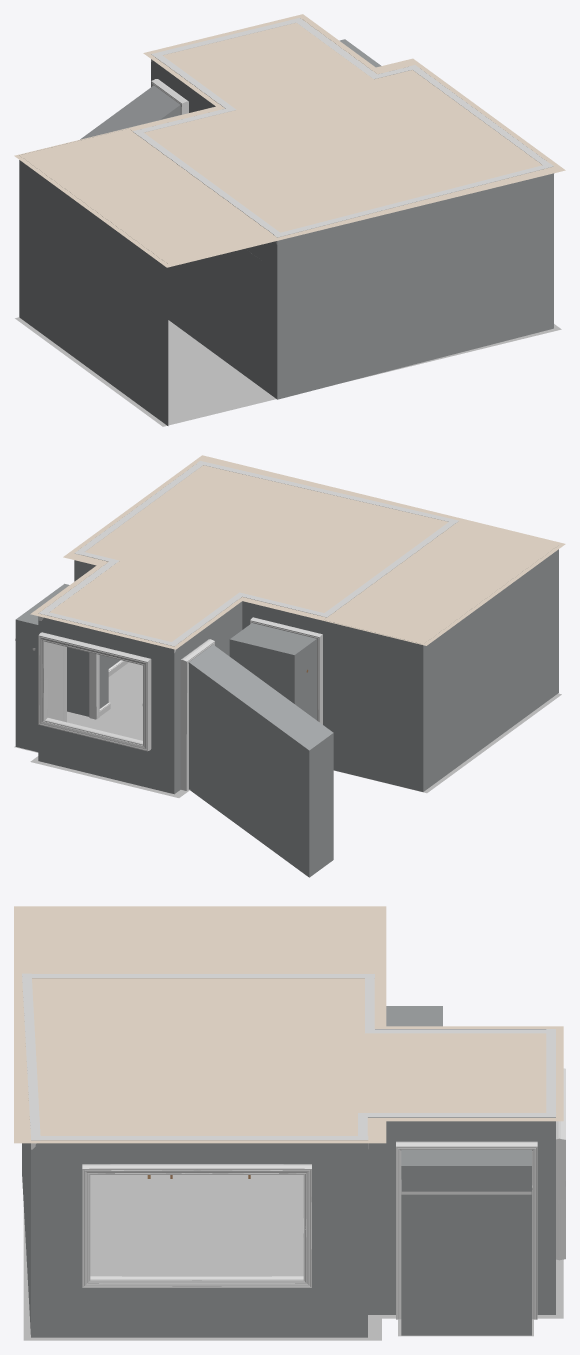
File: room.fbx
The picture shows the model from 3 angles, top to bottom: view 1: azimuth 30°, elevation 25°; view 2: azimuth 150°, elevation 25°; view 3: azimuth 270°, elevation 25°; orthographic projection. The views are drawn at different scales.
Visible parts, largest first — view 1: Walls, Ceiling, Floor, ceiling lining 2, ceiling lining 1, ceiling lining 3, ceiling lining 4, ceiling lining 5, ceiling lining 6; view 2: Walls, Ceiling, Floor, window lining 1, closet door 2, door lining 3, ceiling lining 2, door lining 2, ceiling lining 1, ceiling lining 3, door lining 4, ceiling lining 4 (+1 smaller); view 3: Ceiling, Walls, Floor, window lining 2, door lining 4, ceiling lining 2, ceiling lining 1, ceiling lining 3, window lining 1, ceiling lining 4, ceiling lining 6, ceiling lining 5 (+1 smaller).
Part boxes in pixels (left/top/right/bottom): Walls: left=19, top=39, right=553, bottom=425; Ceiling: left=14, top=14, right=565, bottom=267; Floor: left=15, top=317, right=561, bottom=426; ceiling lining 2: left=273, top=163, right=554, bottom=244; ceiling lining 1: left=136, top=129, right=279, bottom=234; ceiling lining 3: left=408, top=65, right=552, bottom=167; ceiling lining 4: left=292, top=18, right=418, bottom=79; ceiling lining 5: left=151, top=18, right=301, bottom=61; ceiling lining 6: left=155, top=55, right=236, bottom=109; Walls: left=15, top=536, right=558, bottom=877; Ceiling: left=30, top=455, right=565, bottom=649; Floor: left=14, top=662, right=561, bottom=797; window lining 1: left=38, top=632, right=151, bottom=751; closet door 2: left=48, top=642, right=66, bottom=722; door lining 3: left=180, top=639, right=214, bottom=790; ceiling lining 2: left=197, top=461, right=458, bottom=523; door lining 2: left=250, top=617, right=322, bottom=724; ceiling lining 1: left=321, top=522, right=454, bottom=617; ceiling lining 3: left=74, top=461, right=205, bottom=560; door lining 4: left=47, top=642, right=99, bottom=719; ceiling lining 4: left=38, top=550, right=119, bottom=620; Ceiling: left=14, top=906, right=563, bottom=1143; Walls: left=22, top=1006, right=555, bottom=1337; Floor: left=23, top=1175, right=563, bottom=1340; window lining 2: left=82, top=1164, right=311, bottom=1287; door lining 4: left=396, top=1141, right=537, bottom=1319; ceiling lining 2: left=22, top=973, right=40, bottom=1149; ceiling lining 1: left=31, top=974, right=374, bottom=978; ceiling lining 3: left=33, top=1136, right=368, bottom=1148; window lining 1: left=556, top=1068, right=565, bottom=1260; ceiling lining 4: left=358, top=1113, right=556, bottom=1140; ceiling lining 6: left=365, top=1029, right=546, bottom=1033; ceiling lining 5: left=546, top=1029, right=555, bottom=1117.
Bounding box in the file's own units: 624 × 338 × 612.
